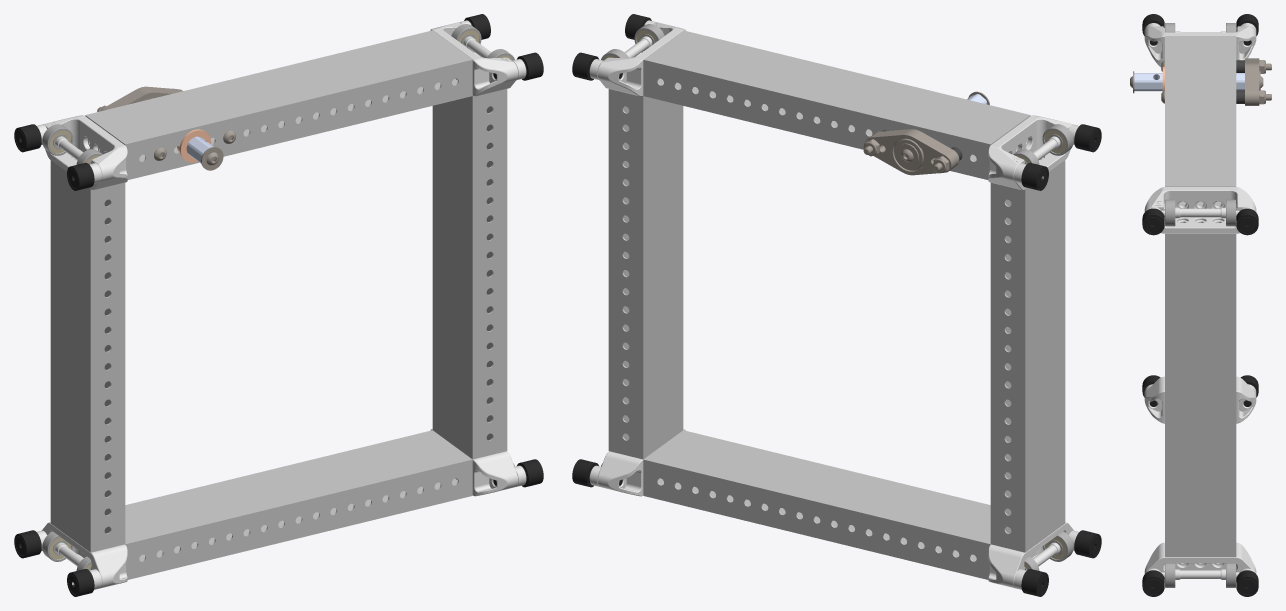
3 renders of one model, left to right at view 1: azimuth 30°, elevation 25°; view 2: azimuth 150°, elevation 25°; view 3: azimuth 270°, elevation 25°, orthographic. The views are drawn at different scales.
Parts seen in each view (by area): view 1: Cage side 1, Cage side 2, cage base, cage top, SDS Elevator Block (×4), Ratchet Plate (1/2" Hex) (WCP-0585); view 2: Cage side 1, Cage side 2, cage base, cage top, SDS Elevator Block (×4), Ratchet Plate (1/2" Hex) (WCP-0585); view 3: Cage side 2, SDS Elevator Block (×4), cage top, Ratchet Plate (1/2" Hex) (WCP-0585), Tension Shaft.
Part boxes in pixels (x1,y1,x2,y2): Cage side 1: (50, 160, 125, 552); Cage side 2: (432, 89, 507, 459); cage base: (125, 430, 472, 579); cage top: (85, 30, 472, 179); SDS Elevator Block (×4): (14, 14, 543, 596); Ratchet Plate (1/2" Hex) (WCP-0585): (101, 86, 182, 110); Cage side 1: (990, 160, 1065, 552); Cage side 2: (608, 89, 683, 459); cage base: (643, 430, 990, 579); cage top: (643, 30, 1030, 179); SDS Elevator Block (×4): (572, 14, 1101, 596); Ratchet Plate (1/2" Hex) (WCP-0585): (865, 129, 959, 175); Cage side 2: (1165, 233, 1236, 557); SDS Elevator Block (×4): (1142, 14, 1258, 596); cage top: (1165, 36, 1236, 205); Ratchet Plate (1/2" Hex) (WCP-0585): (1245, 58, 1259, 105); Tension Shaft: (1134, 73, 1244, 91).
Size of the model in its own units: 0.3395 by 0.3059 by 0.1009.
